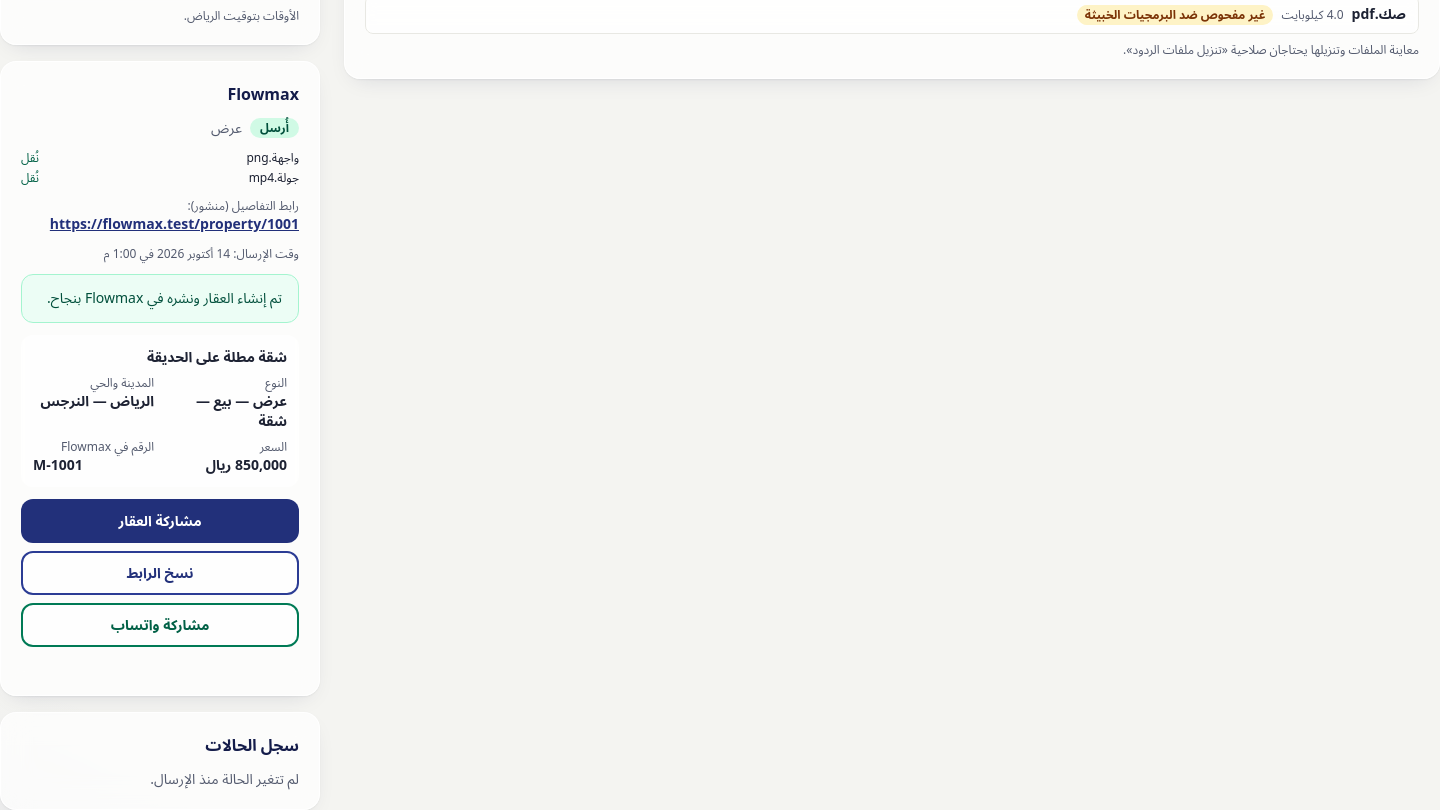
it: بعد النشر: مشاركة واتساب ونسخ الرابط دون بيانات المالك
The image size is (1440, 810).
(page scrolled)
Click the button "نسخ الرابط": (160,573) [21, 551, 299, 595]
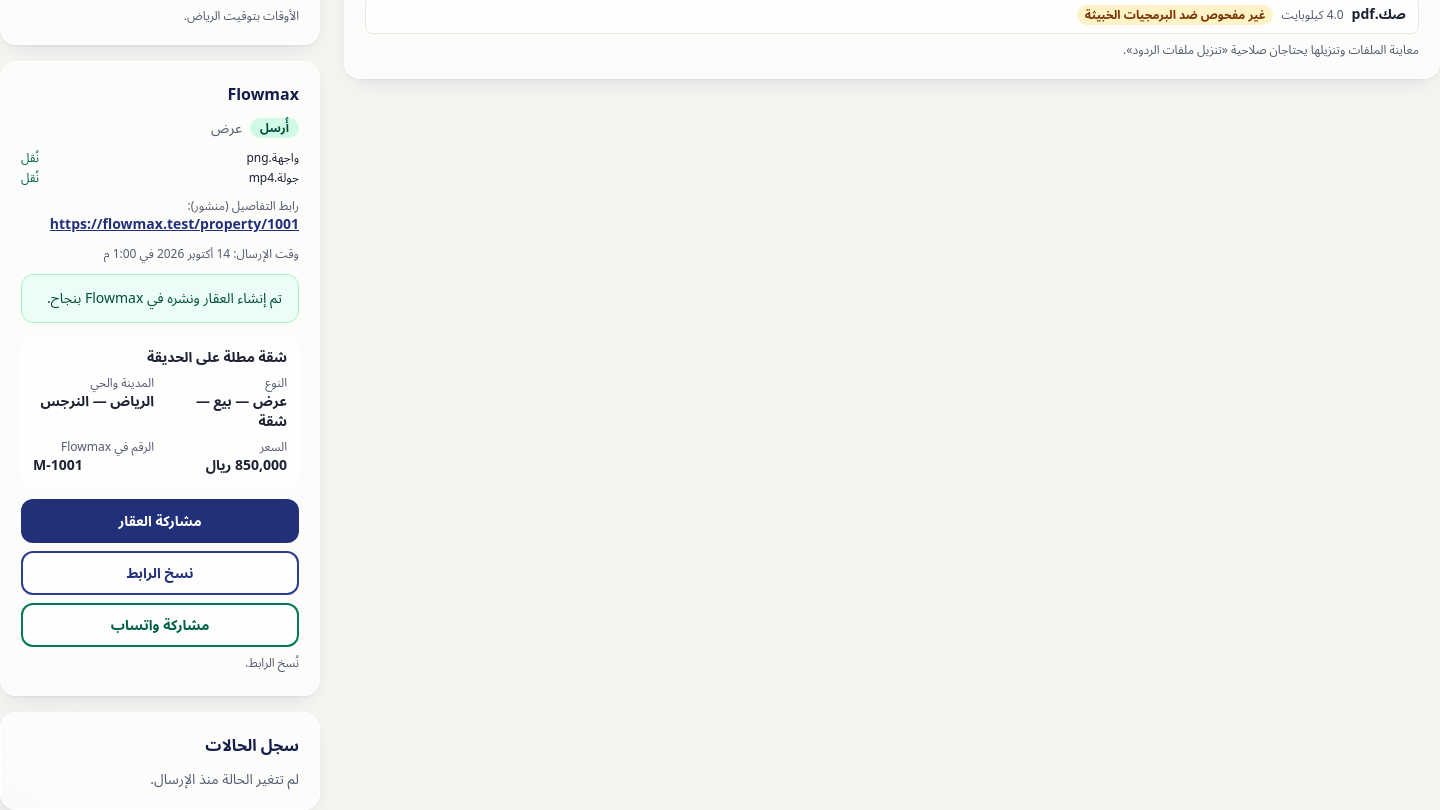
expect the text "نُسخ الرابط." is shown: met, box [245, 654, 299, 671]
